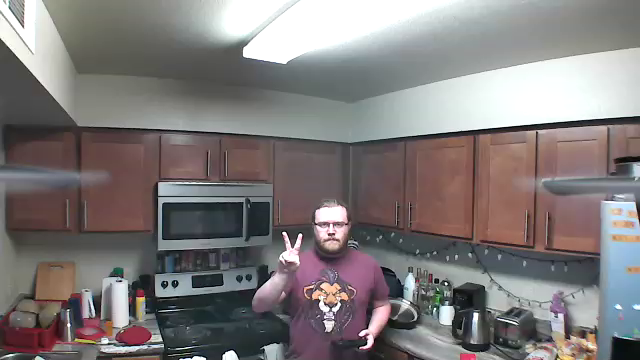peace: (277, 226, 304, 279)
